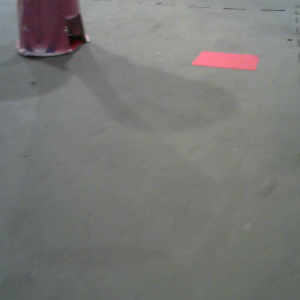middle: (12, 1, 92, 58)
